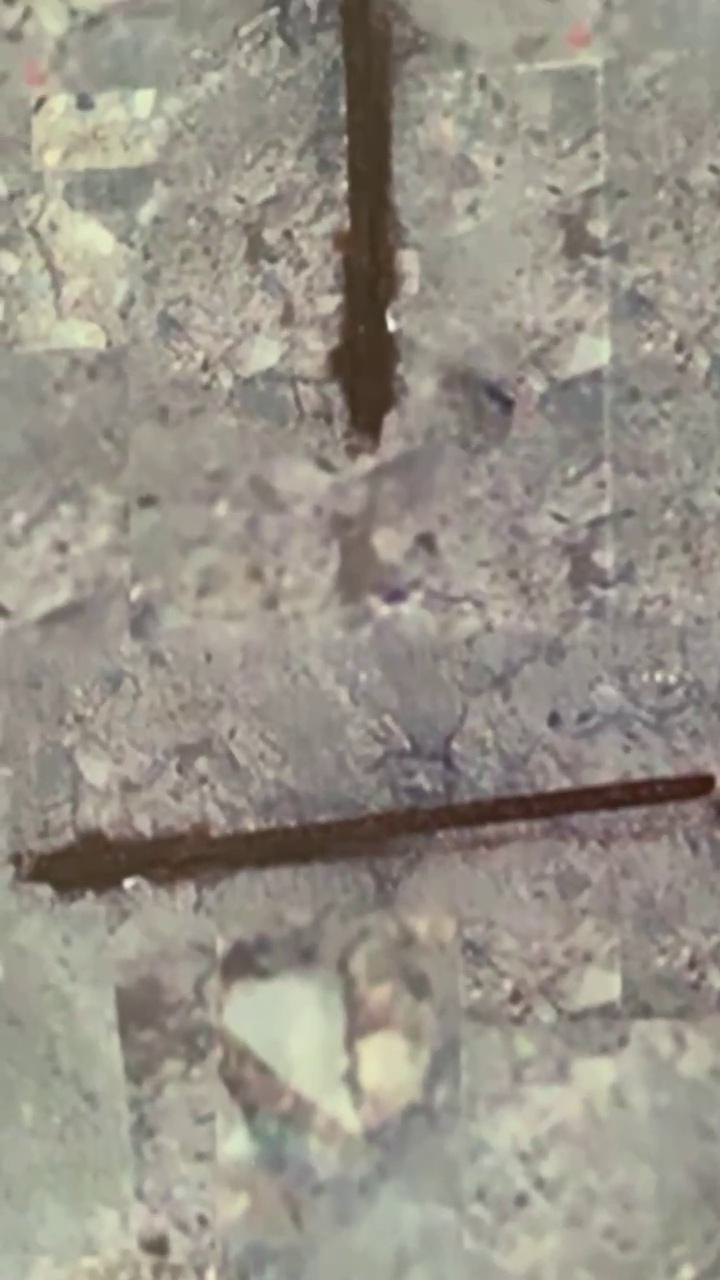Exposed reinforcement: (25, 769, 715, 907), (328, 1, 402, 449)
